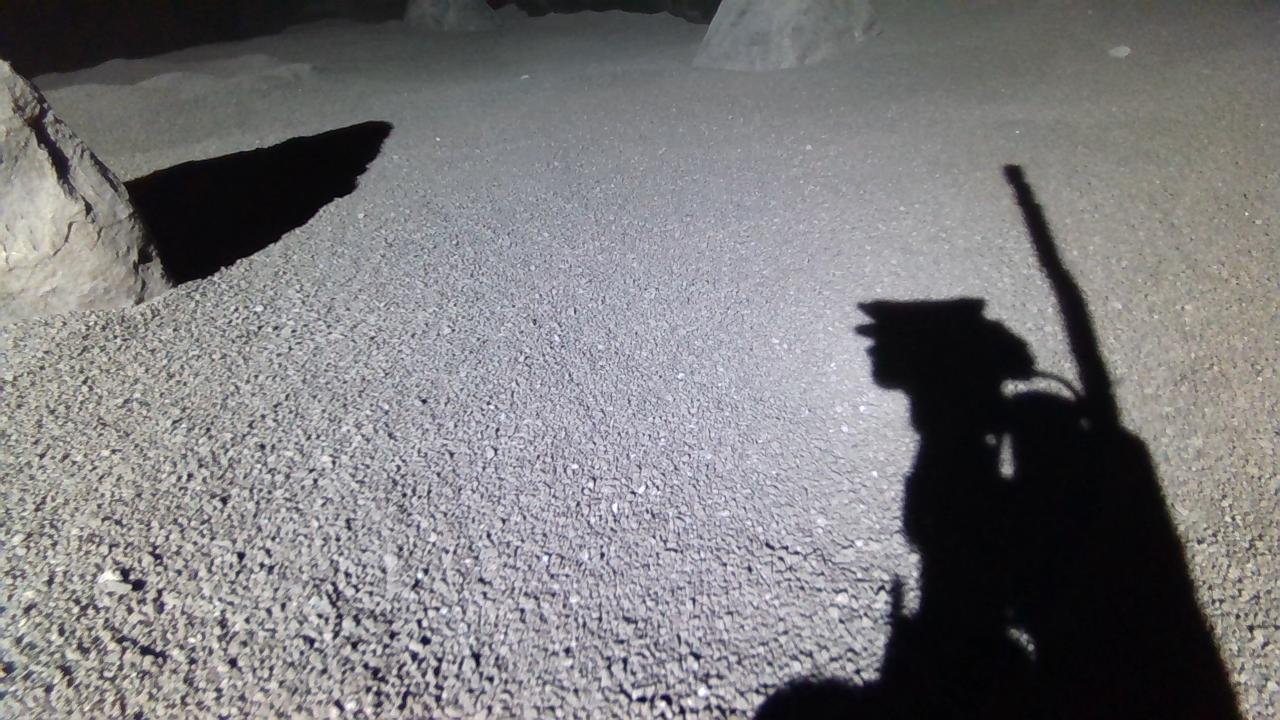rock: (694, 0, 882, 69), (404, 0, 500, 30)
